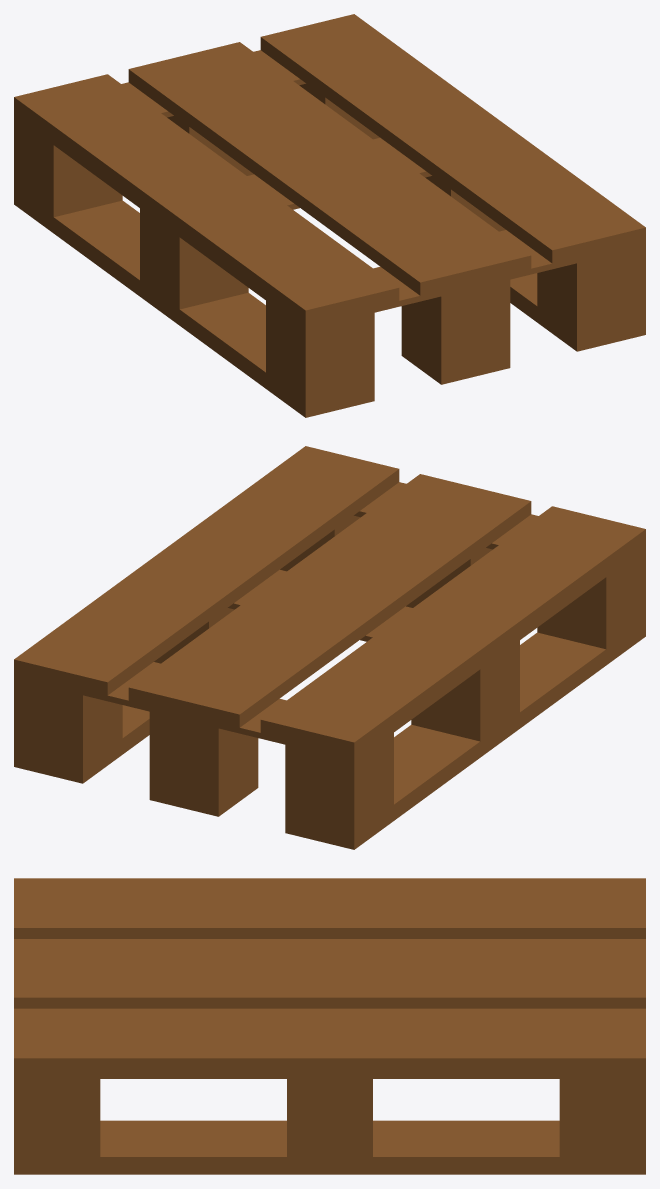
3 views of the same model, one above another, from view 1: azimuth 30°, elevation 25°; view 2: azimuth 150°, elevation 25°; view 3: azimuth 270°, elevation 25° (orthographic). The views are drawn at different scales.
Visible parts, largest first — view 1: A-7; view 2: A-7; view 3: A-7.
Part boxes in pixels (x1,y1,x2,y2): A-7: (14, 14, 645, 417); A-7: (14, 446, 645, 849); A-7: (14, 878, 645, 1174).
Size of the model in its own units: 314 by 94.68 by 466.
